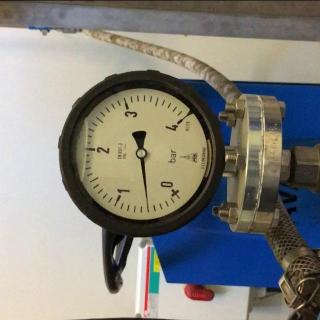gauge: (58, 71, 226, 237), (159, 179, 185, 203), (170, 110, 193, 134), (136, 148, 146, 158), (146, 206, 151, 215)
